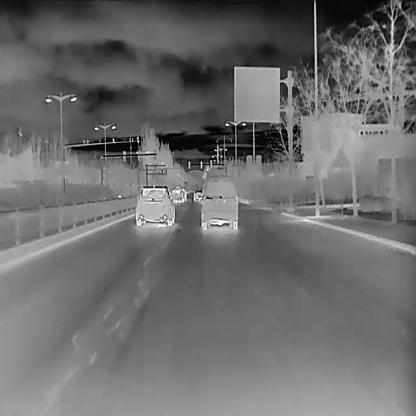car: (198, 174, 238, 229), (135, 184, 176, 227), (170, 187, 185, 202), (176, 187, 188, 201), (193, 189, 204, 202)
